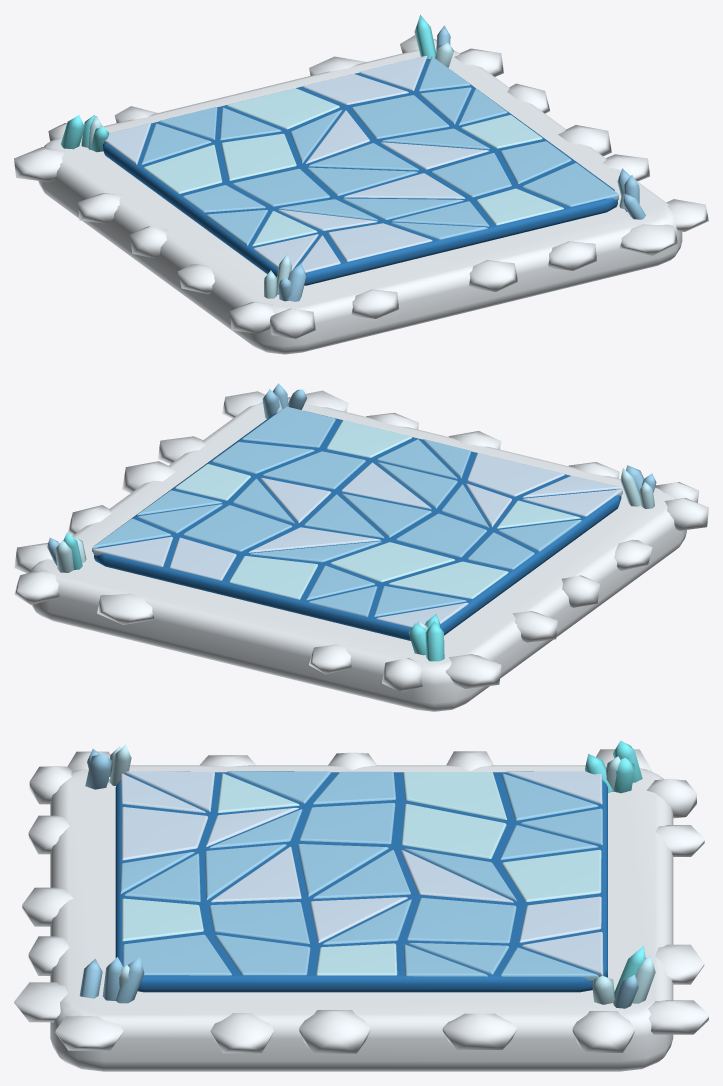
The model's file is PlotStage.fbx.
The picture shows the model from 3 angles, top to bottom: view 1: azimuth 30°, elevation 25°; view 2: azimuth 150°, elevation 25°; view 3: azimuth 270°, elevation 25°; orthographic projection. The views are drawn at different scales.
Parts seen in each view (by area): view 1: PlotStageSnow, PlotStageIce, PlotStageCracks, PlotStageCrystals; view 2: PlotStageSnow, PlotStageIce, PlotStageCracks, PlotStageCrystals; view 3: PlotStageSnow, PlotStageIce, PlotStageCracks, PlotStageCrystals.
Boxes of the visible parts, <box> form: PlotStageSnow: <box>14,35,708,354</box>; PlotStageIce: <box>104,55,618,272</box>; PlotStageCracks: <box>102,59,617,285</box>; PlotStageCrystals: <box>61,14,645,301</box>; PlotStageSnow: <box>14,390,708,711</box>; PlotStageIce: <box>92,406,622,627</box>; PlotStageCracks: <box>94,411,621,640</box>; PlotStageCrystals: <box>47,383,656,661</box>; PlotStageSnow: <box>14,749,708,1071</box>; PlotStageIce: <box>120,771,603,981</box>; PlotStageCracks: <box>115,772,607,992</box>; PlotStageCrystals: <box>79,740,655,1008</box>.
Bounding box in the file's own units: 344 × 57.8 × 341.
